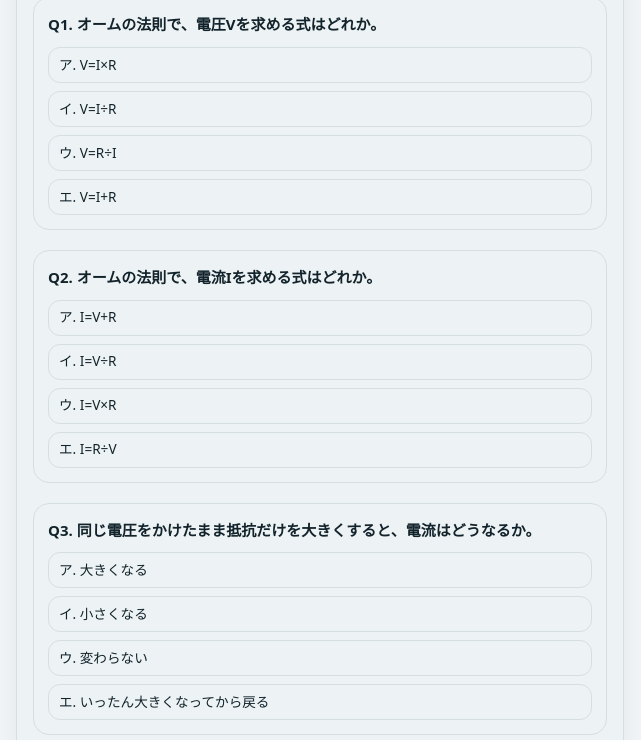
Test: 選択肢の出し方 › 正解が1つだけ強調され、色だけでなく記号でも分かる
This screenshot has width=641, height=740.
(page scrolled)
Click the button "ウ. I=V×R".
click(98, 405)  # box [48,388,592,424]
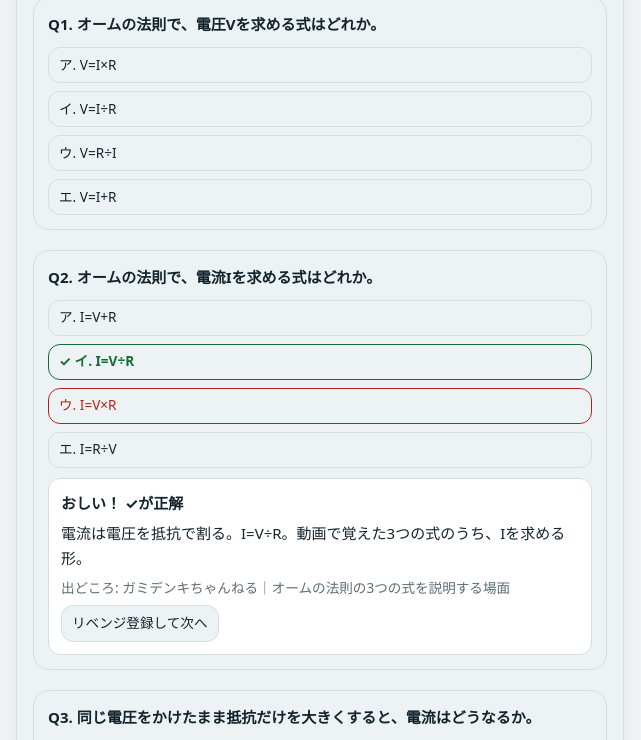
Check: the button "✓ イ. I=V÷R" is shown, box [48,344,592,380]
Check: the text "おしい！ ✓が正解" is shown, box [61,493,183,513]
